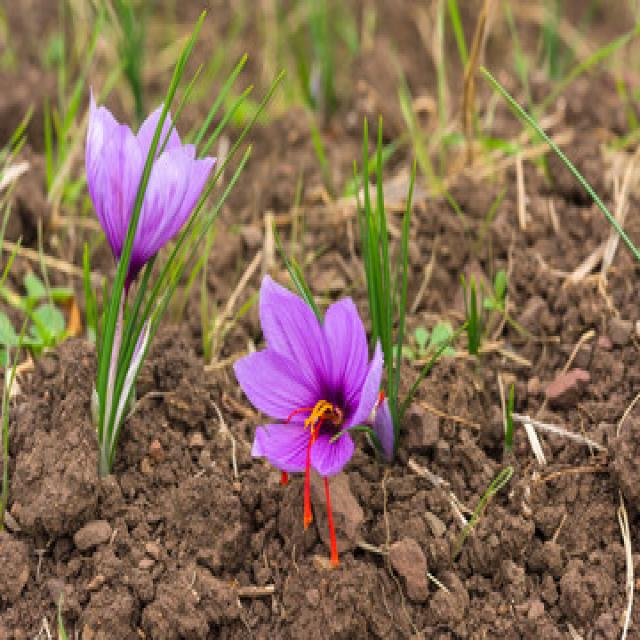saffron open: (234, 276, 394, 565), (128, 129, 214, 290), (88, 94, 161, 260)
